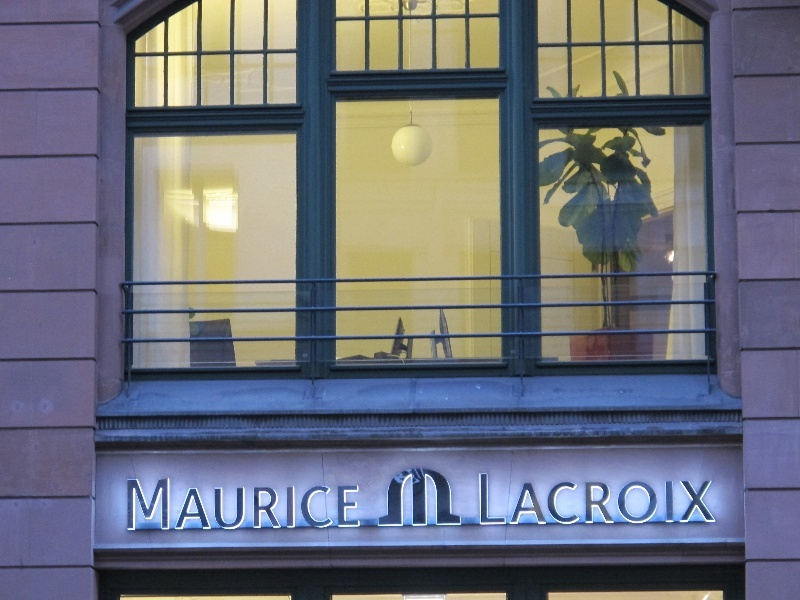text: (385, 469, 400, 529), (401, 469, 416, 529), (417, 469, 432, 529), (433, 469, 448, 529), (129, 478, 144, 533), (145, 478, 160, 533), (161, 478, 176, 533), (177, 478, 192, 533), (193, 478, 208, 533), (209, 478, 224, 533), (225, 478, 240, 533), (241, 478, 256, 533), (257, 478, 272, 533), (273, 478, 288, 533), (289, 478, 304, 533), (305, 478, 320, 533), (321, 478, 336, 533), (337, 478, 352, 533), (481, 474, 496, 526), (497, 474, 512, 526), (513, 474, 528, 526), (529, 474, 544, 526), (545, 474, 560, 526), (561, 474, 576, 526), (577, 474, 592, 526), (593, 474, 608, 526), (609, 474, 624, 526), (625, 474, 640, 526), (641, 474, 656, 526), (657, 474, 672, 526), (673, 474, 688, 526), (689, 474, 704, 526), (449, 469, 462, 529), (705, 474, 716, 526), (353, 478, 361, 533), (378, 469, 384, 529), (126, 478, 128, 533), (479, 474, 480, 526)
